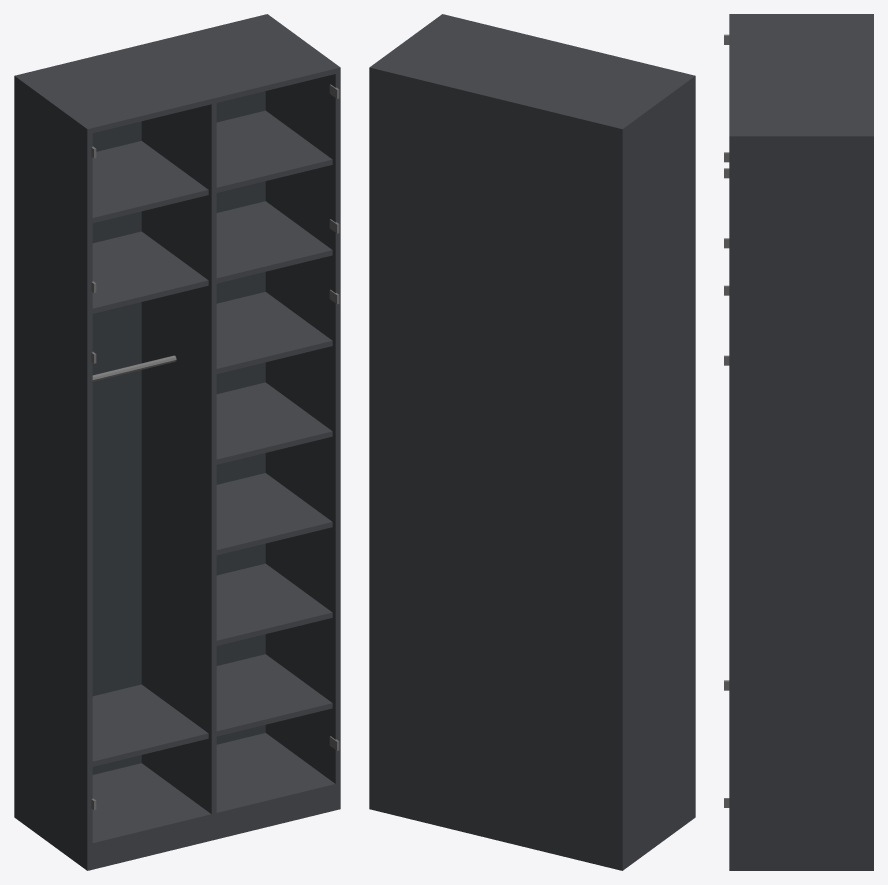
Rendered from Wardrobe7_C2.fbx.
3 views of the same model, side by side, from view 1: azimuth 30°, elevation 25°; view 2: azimuth 150°, elevation 25°; view 3: azimuth 270°, elevation 25° (orthographic).
Visible parts, largest first — view 1: Wardrobe7_C2; view 2: Wardrobe7_C2; view 3: Wardrobe7_C2.
Part boxes in pixels (x1=…): Wardrobe7_C2: x1=14, y1=14, x2=340, y2=870; Wardrobe7_C2: x1=369, y1=14, x2=695, y2=870; Wardrobe7_C2: x1=724, y1=14, x2=873, y2=870.
Bounding box in the file's own units: 100 × 280 × 51.79.
